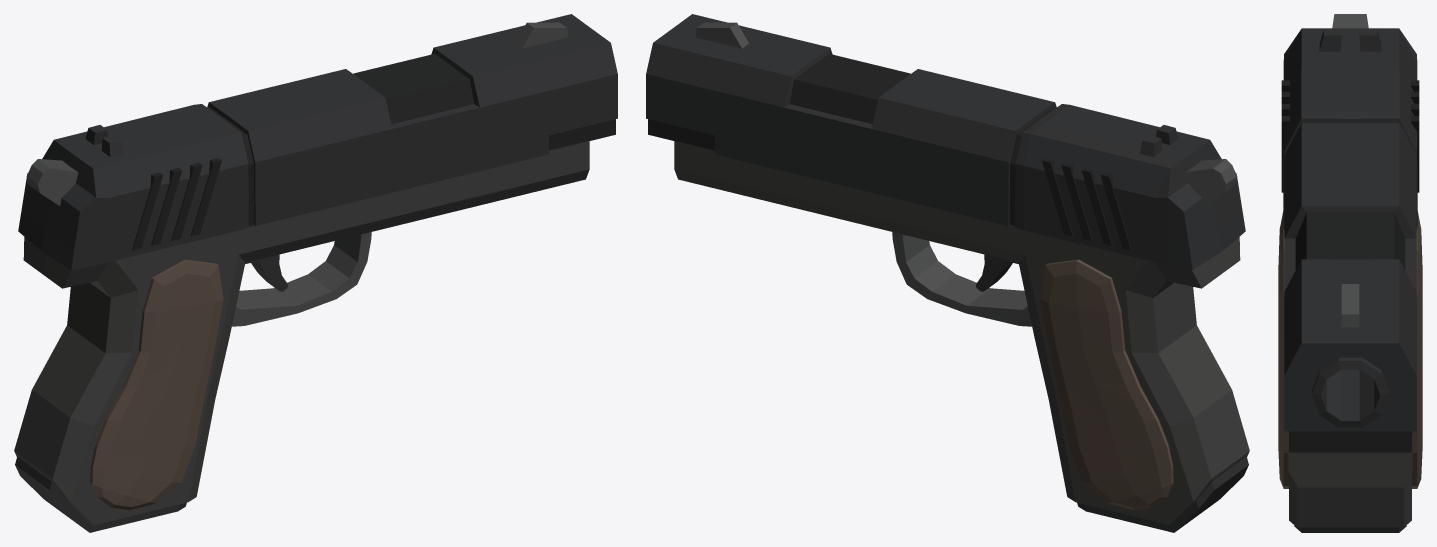
File: 格洛克.glb
The picture shows the model from 3 angles, left to right: view 1: azimuth 30°, elevation 25°; view 2: azimuth 150°, elevation 25°; view 3: azimuth 270°, elevation 25°; orthographic projection. The views are drawn at different scales.
Parts seen in each view (by area): view 1: Pistol_1; view 2: Pistol_1; view 3: Pistol_1.
Part boxes in pixels (box(x1,y1,x2,y2)): Pistol_1: box(14, 14, 617, 532); Pistol_1: box(646, 14, 1249, 532); Pistol_1: box(1278, 14, 1422, 532).
Size of the model in its own units: 1.82 by 1.16 by 0.3232.
